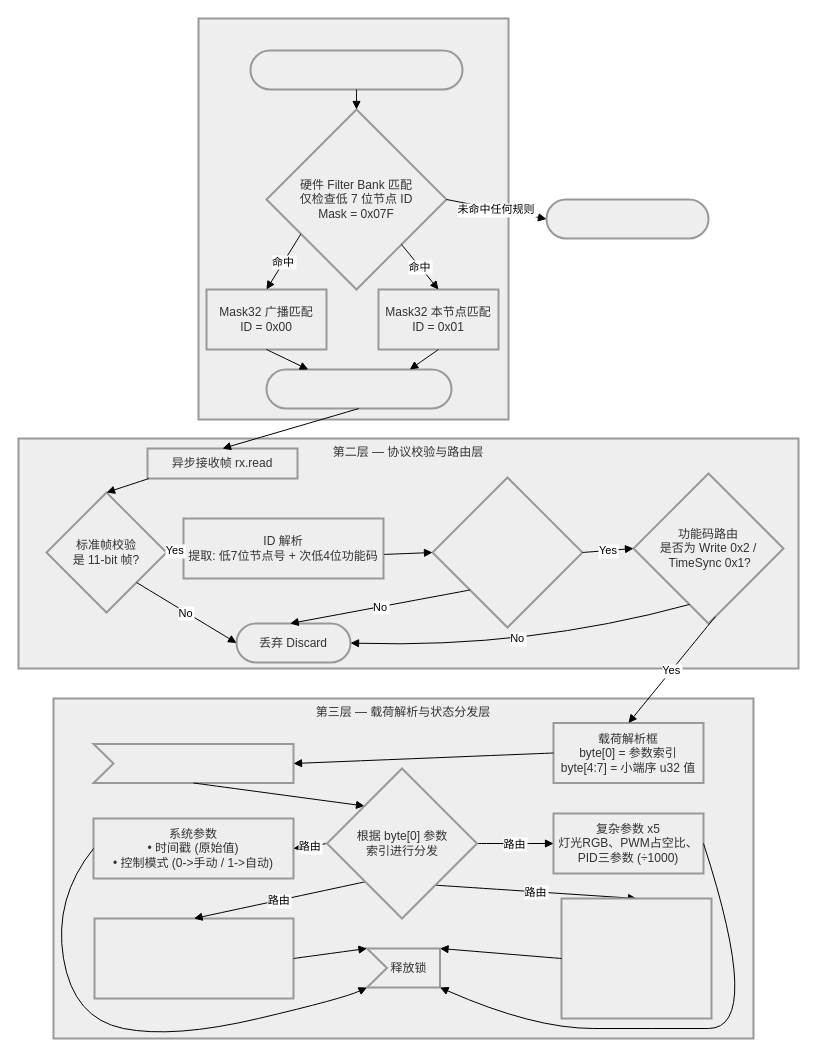
Some shapes in this 816 by 1056 pixel diagram are drawn without their labels. The box of each missing label's shape, as (x1, y1, x2, y2) in pixels:
STM32 CAN RX 路由帧输入: (249, 49, 463, 90)
已匹配帧进入接收队列: (265, 368, 452, 409)
开关量 x9 布尔转换 (≠0) 含补光灯、水泵、加湿器、风扇、 遮阳舵机、加热器、窗户、 辅助继电器 1/2: (93, 917, 294, 999)
模拟量 x9 • ÷100组: 温度/湿度/土壤湿度/土壤pH • 原始值组: 光强/CO2/风扇转速/土壤EC/水位: (560, 897, 712, 1019)
硬件级丢弃 Discard: (545, 198, 709, 239)
第一层 — 硬件过滤层: (197, 17, 509, 420)
节点地址路由 目标 == 本节点 OR 广播?: (431, 476, 583, 628)
获取 GLOBAL_STATE 互斥锁: (92, 742, 294, 784)
